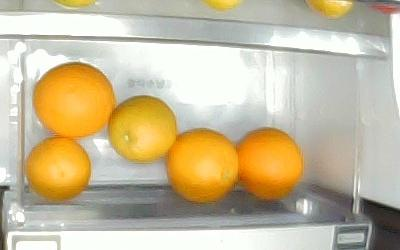orange: (31, 62, 115, 140), (165, 128, 237, 202), (236, 127, 303, 201), (109, 95, 177, 162), (26, 136, 91, 201)
